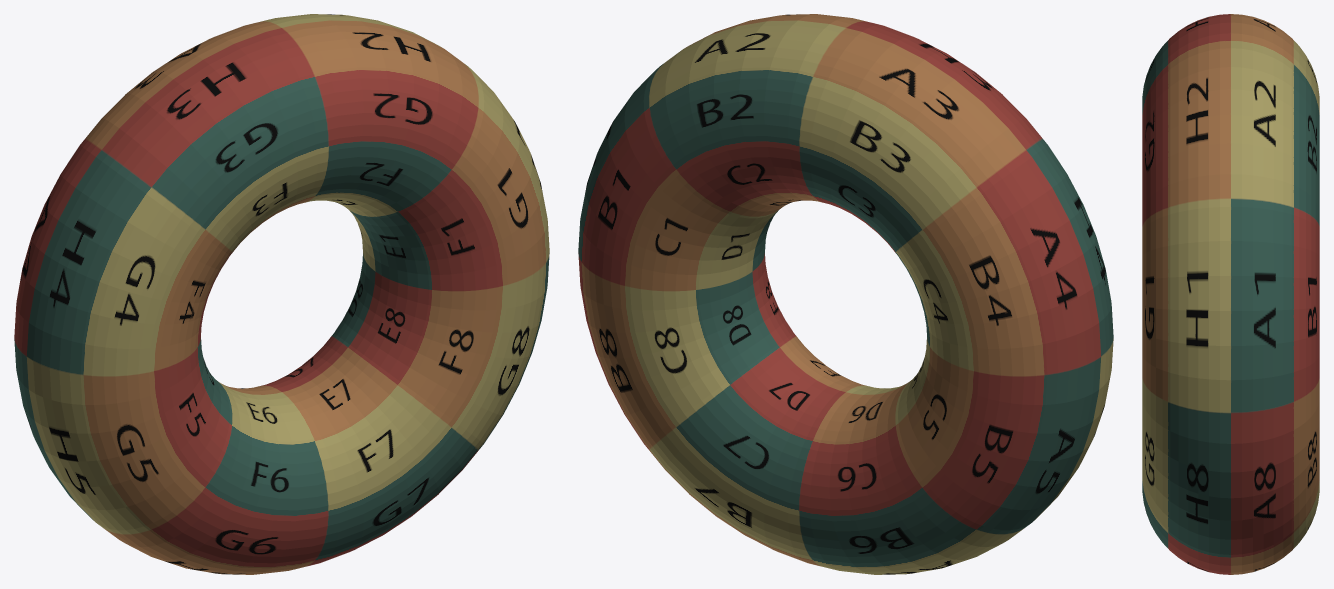
The model's file is texture_torus_R7_r18.glb.
The picture shows the model from 3 angles, left to right: view 1: azimuth 30°, elevation 25°; view 2: azimuth 150°, elevation 25°; view 3: azimuth 270°, elevation 25°; orthographic projection. The views are drawn at different scales.
Parts seen in each view (by area): view 1: world; view 2: world; view 3: world.
Part boxes in pixels (x1=…): world: x1=14, y1=14, x2=549, y2=574; world: x1=578, y1=14, x2=1113, y2=574; world: x1=1142, y1=14, x2=1319, y2=574.
Bounding box in the file's own units: 21.47 × 21.42 × 6.79.
Materials: 1 (1 with a texture image).
